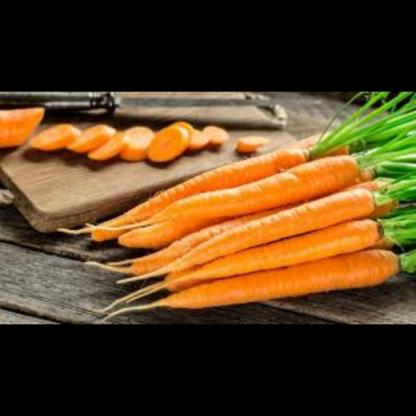carrot: (80, 110, 372, 246), (121, 171, 396, 286), (137, 234, 412, 319), (0, 108, 265, 152)
